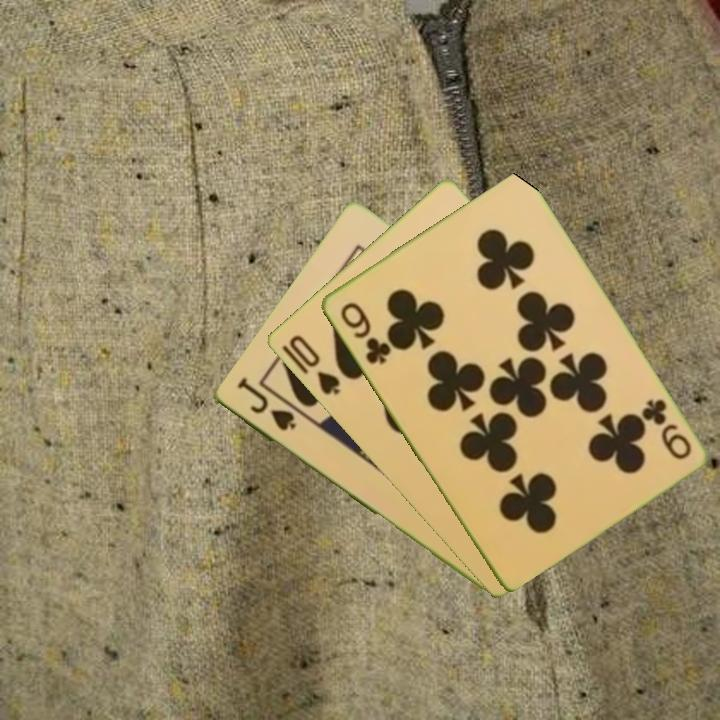10s: (285, 331, 343, 398)
9c: (336, 298, 393, 368), (637, 395, 694, 463)
Js: (232, 376, 299, 434)
